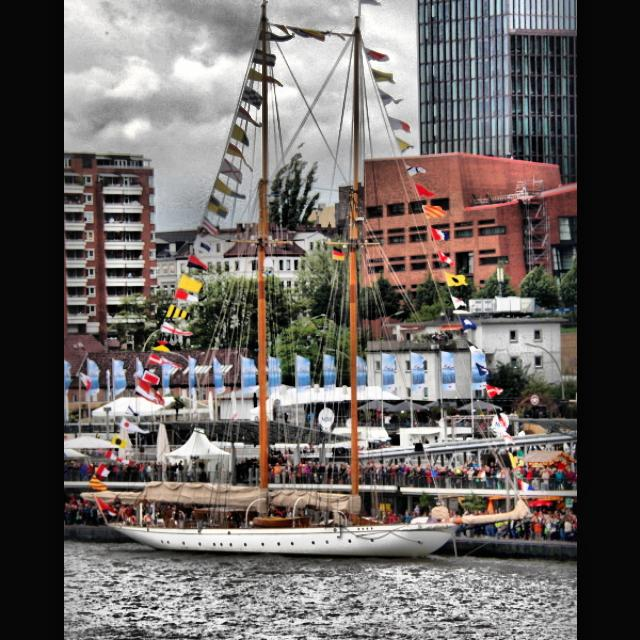sailing_vessel: (79, 4, 537, 562)
